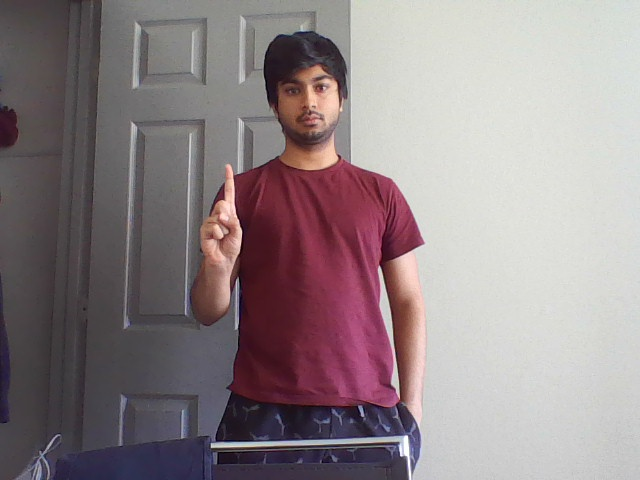one: (199, 159, 245, 240)
